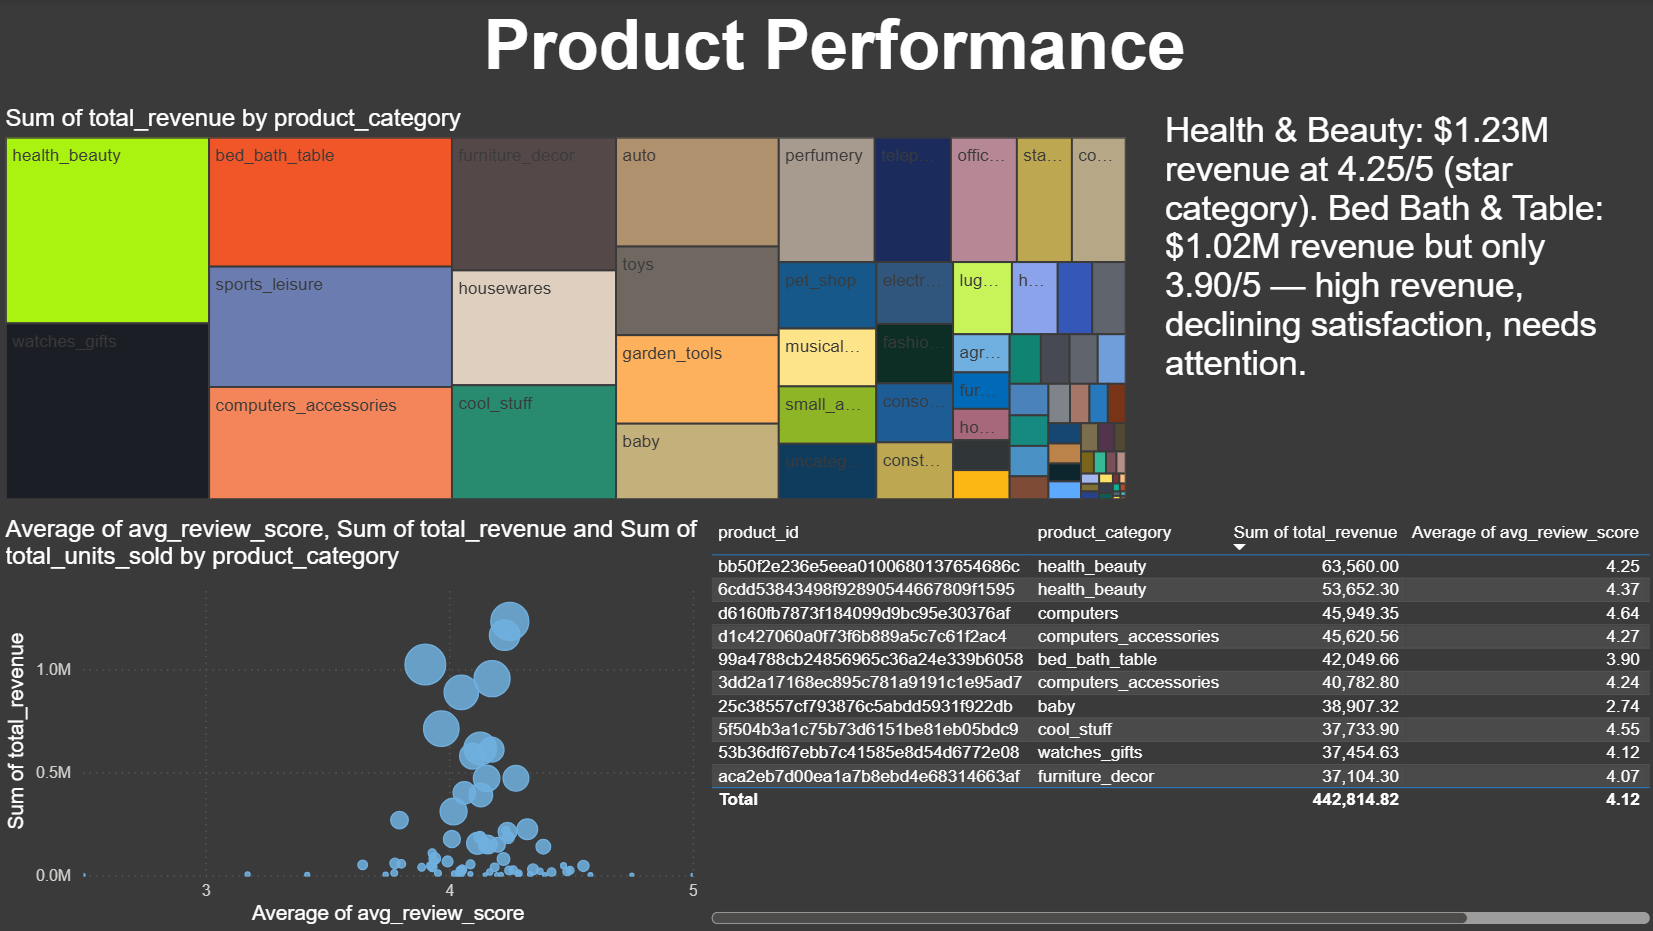

This screenshot's page, from the dashboard's own definition file:
{"tool":"powerbi","page":{"name":"Page 3","canvas":[1280,720],"ordinal":2},"visuals":[{"type":"textbox","box":[10.1,0,1270.3,106.6],"z":0},{"type":"treemap","fields":{"Group":["product_performance.product_category"],"Values":["Sum(product_performance.total_revenue)"]},"box":[0,81.5,875,309.8],"z":1000},{"type":"scatterChart","fields":{"Category":["product_performance.product_category"],"Y":["Sum(product_performance.total_revenue)"],"X":["Avg(product_performance.avg_review_score)"],"Size":["Sum(product_performance.total_units_sold)"]},"box":[0,398.6,544.6,321],"z":2000},{"type":"tableEx","fields":{"Values":["product_performance.product_id","product_performance.product_category","Sum(product_performance.total_revenue)","Avg(product_performance.avg_review_score)","Sum(product_performance.revenue_per_review)"]},"box":[544.6,398.6,735.8,321],"z":3000},{"type":"textbox","box":[896.1,81.5,384.2,320.8],"z":4000}]}

Visuals, with their boxes in screenshot pixels (x1, y1, x2, y2), scaled from the page's 1280x720 canvas onto the 1653x931 screenshot:
textbox: (x1=13, y1=0, x2=1652, y2=138)
treemap - product_performance.product_category x Sum(product_performance.total_revenue): (x1=0, y1=105, x2=1130, y2=506)
scatterChart - product_performance.product_category x Sum(product_performance.total_revenue): (x1=0, y1=515, x2=703, y2=930)
tableEx - product_performance.product_id x product_performance.product_category: (x1=703, y1=515, x2=1652, y2=930)
textbox: (x1=1157, y1=105, x2=1652, y2=520)
